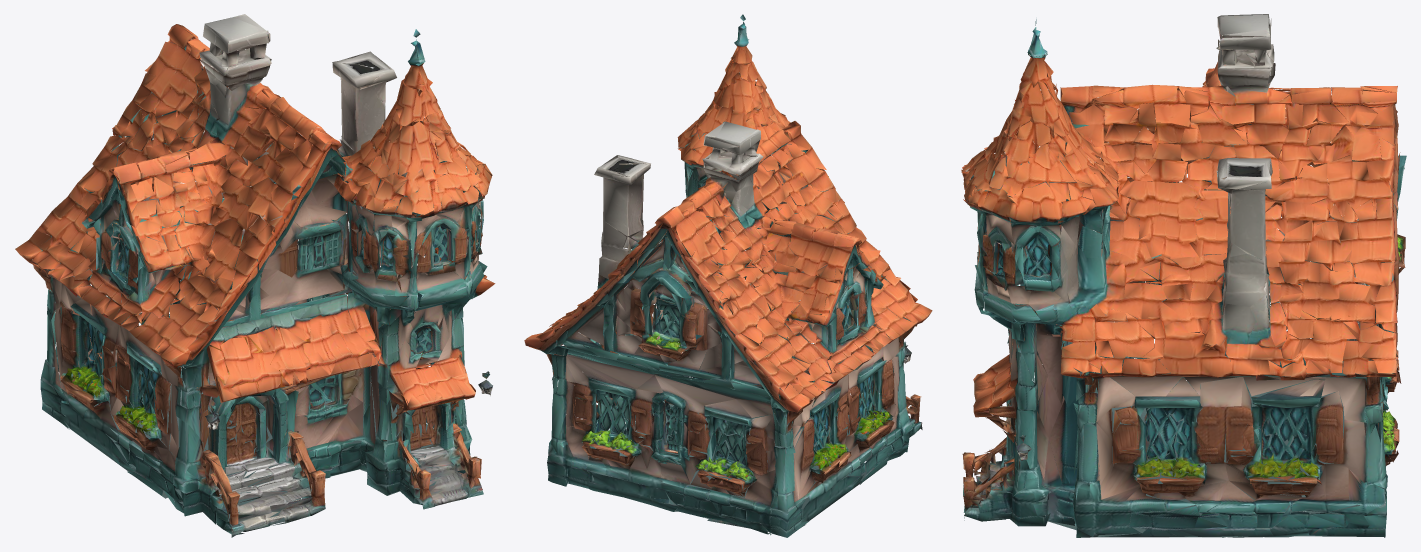
File: Ember_Tiled_Turret_Ho_town.glb
3 views of the same model, side by side, from view 1: azimuth 30°, elevation 25°; view 2: azimuth 150°, elevation 25°; view 3: azimuth 270°, elevation 25° (orthographic). The views are drawn at different scales.
Visible parts, largest first — view 1: Ember_Tiled_Turret_Ho; view 2: Ember_Tiled_Turret_Ho; view 3: Ember_Tiled_Turret_Ho.
Boxes of the visible parts, x1=… form: Ember_Tiled_Turret_Ho: x1=15, y1=14, x2=495, y2=537; Ember_Tiled_Turret_Ho: x1=524, y1=14, x2=932, y2=537; Ember_Tiled_Turret_Ho: x1=961, y1=14, x2=1406, y2=537.
Bounding box in the file's own units: 1.46 × 1.91 × 1.58.
Materials: 1 (1 with a texture image).
